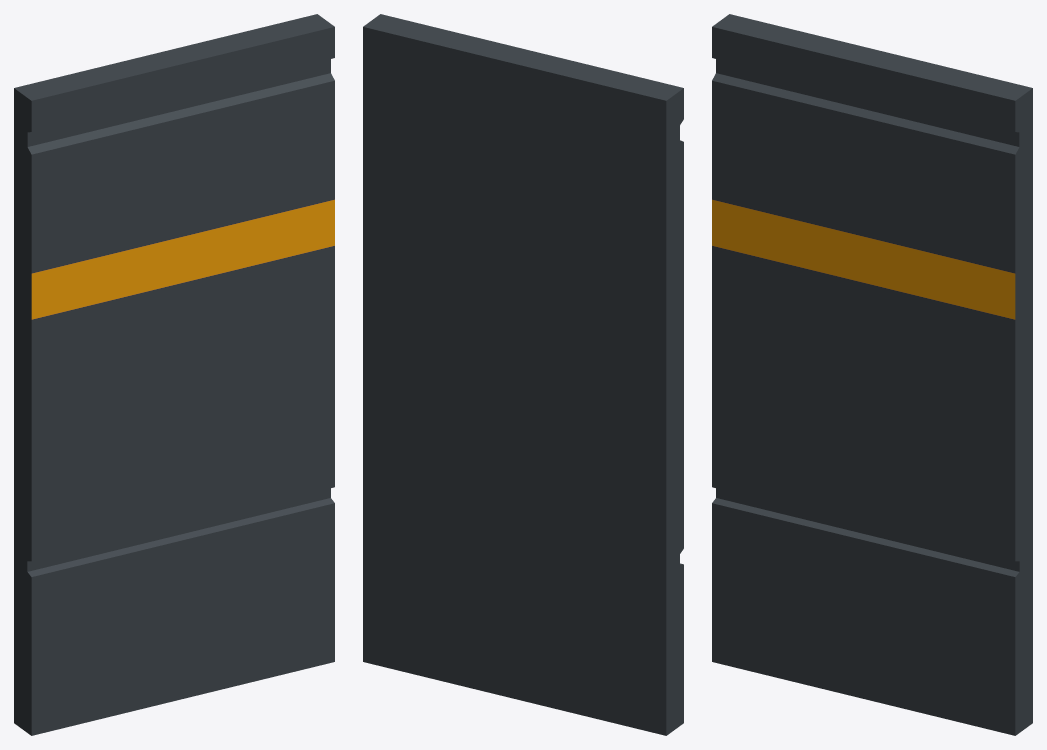
The model's file is NLIWall.glb.
The picture shows the model from 3 angles, left to right: view 1: azimuth 30°, elevation 25°; view 2: azimuth 150°, elevation 25°; view 3: azimuth 330°, elevation 25°; orthographic projection.
Parts seen in each view (by area): view 1: Cube; view 2: Cube; view 3: Cube.
Boxes of the visible parts, <box> form: Cube: <box>14,14,334,735</box>; Cube: <box>363,14,683,735</box>; Cube: <box>712,14,1032,735</box>.
Size of the model in its own units: 2 by 4 by 0.2.
Materials: 2 (1 with a texture image).
